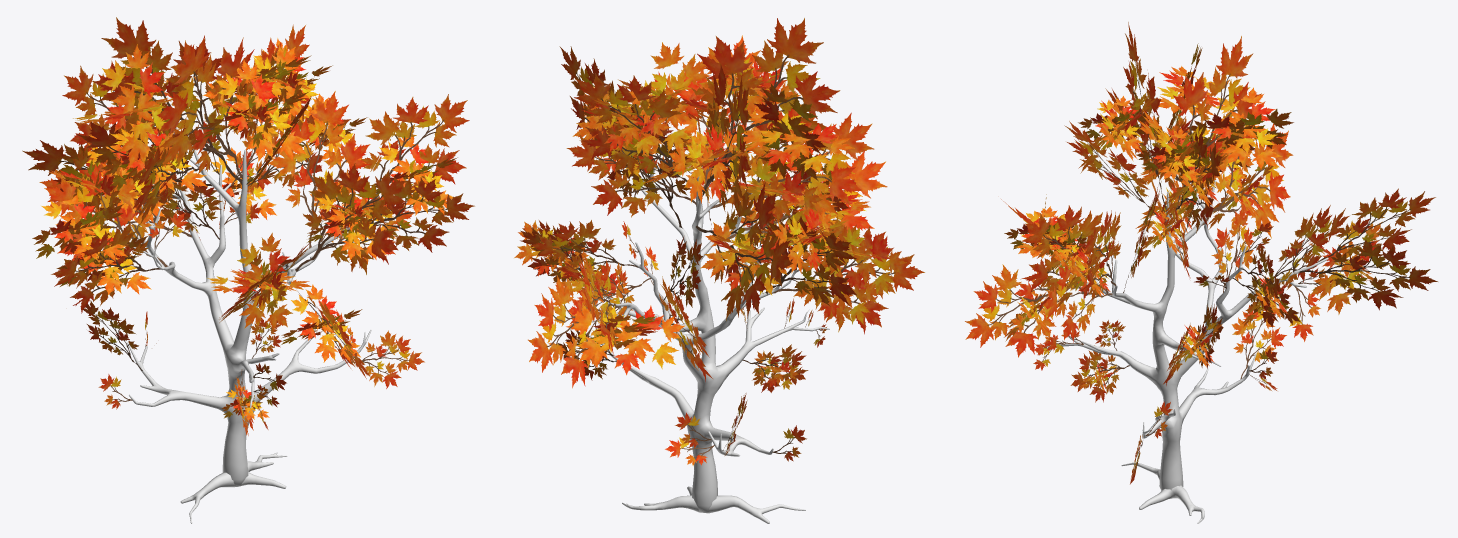
Rendered from forest_mapletree_leaves.fbx.
The picture shows the model from 3 angles, left to right: view 1: azimuth 30°, elevation 25°; view 2: azimuth 150°, elevation 25°; view 3: azimuth 270°, elevation 25°; orthographic projection. The views are drawn at different scales.
Visible parts, largest first — view 1: mapletree_leaves, mapletree, mapletree_roots; view 2: mapletree_leaves, mapletree, mapletree_roots; view 3: mapletree_leaves, mapletree, mapletree_roots.
Boxes of the visible parts, <box> form: mapletree_leaves: <box>22,17,474,435</box>; mapletree: <box>127,145,371,486</box>; mapletree_roots: <box>180,452,287,523</box>; mapletree_leaves: <box>514,18,924,465</box>; mapletree: <box>589,167,829,512</box>; mapletree_roots: <box>622,486,805,523</box>; mapletree_leaves: <box>965,22,1437,484</box>; mapletree: <box>1056,180,1328,490</box>; mapletree_roots: <box>1121,462,1204,523</box>.
Bounding box in the file's own units: 903 × 1062 × 1043.
